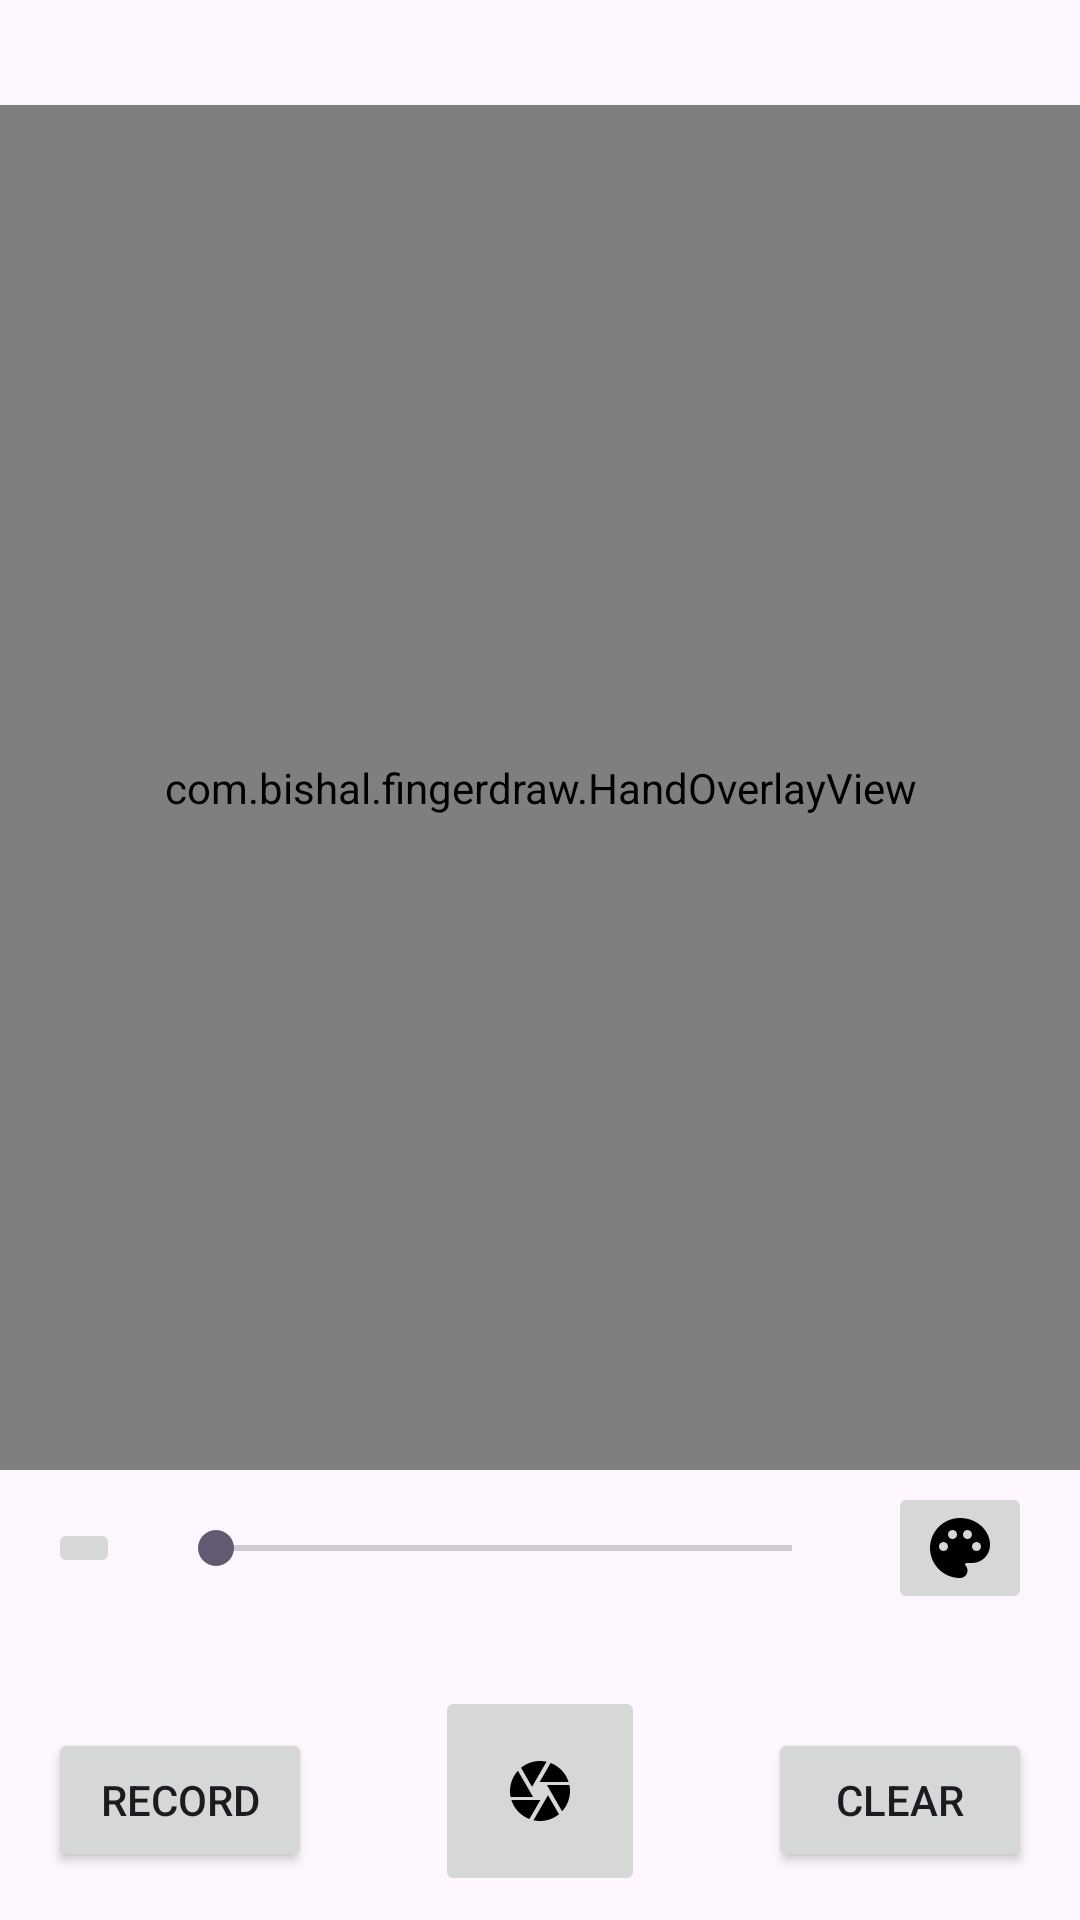

Point at icon controls on the screen. Image size 1080*1920, points as point (x, y).
camera: point (540, 1791)
palette: point (960, 1548)
